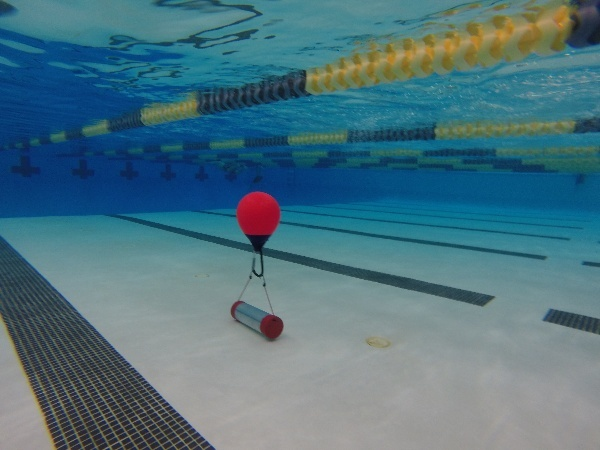buoy_red: (236, 188, 281, 255)
